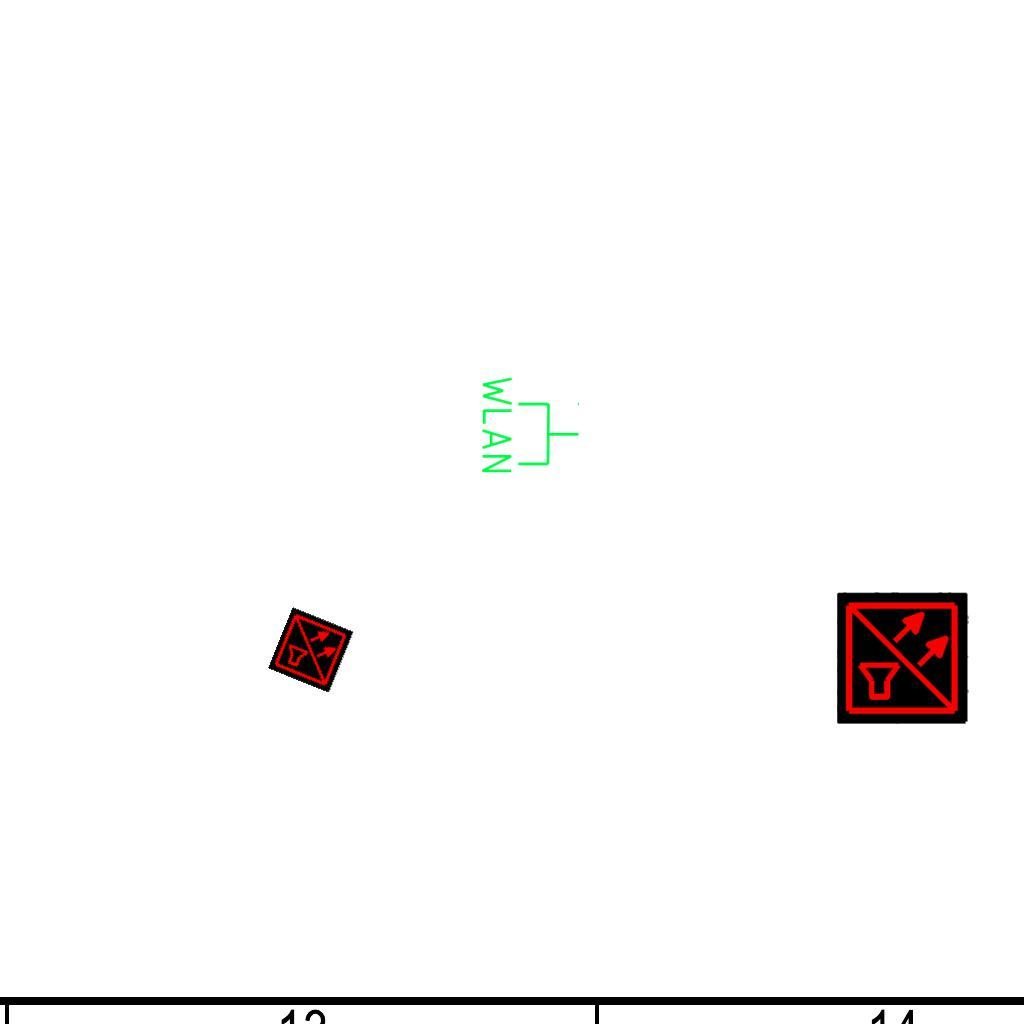OKW_Multisensormelder_(Kombination_optischer_Rauch-Kahlenmonoxid_Waerme-Melder): (837, 592, 969, 724), (268, 607, 354, 693)
WLAN: (478, 372, 582, 477)
